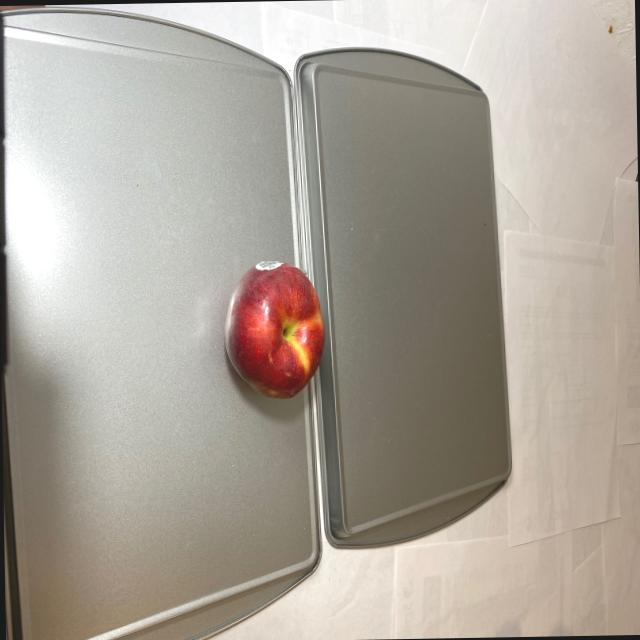apple: (226, 260, 326, 406)
